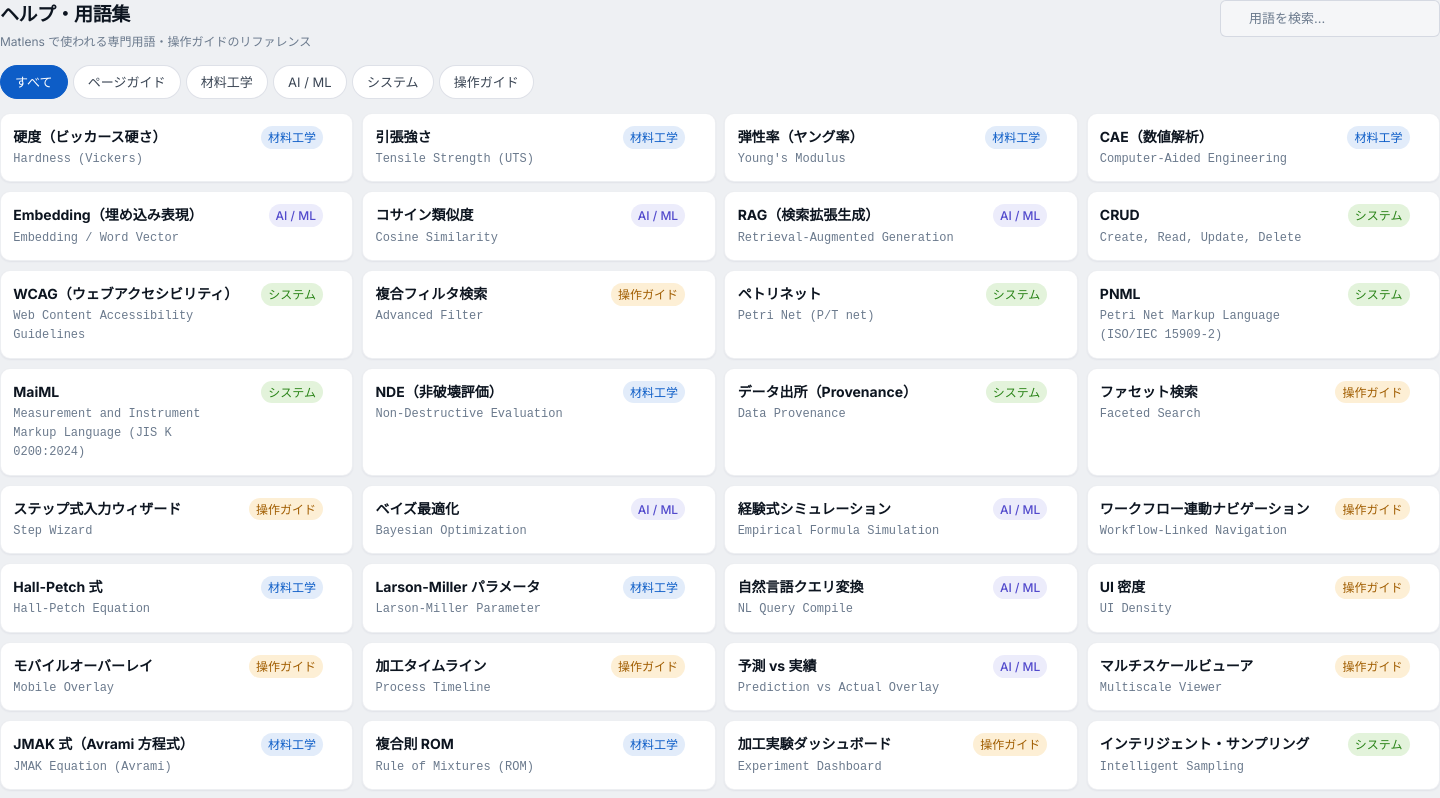
HelpPage › opened card auto-closes when search filters it out (no ghost expand)
Click the tab "ページガイド": (127, 82) 73,65 -> 181,99
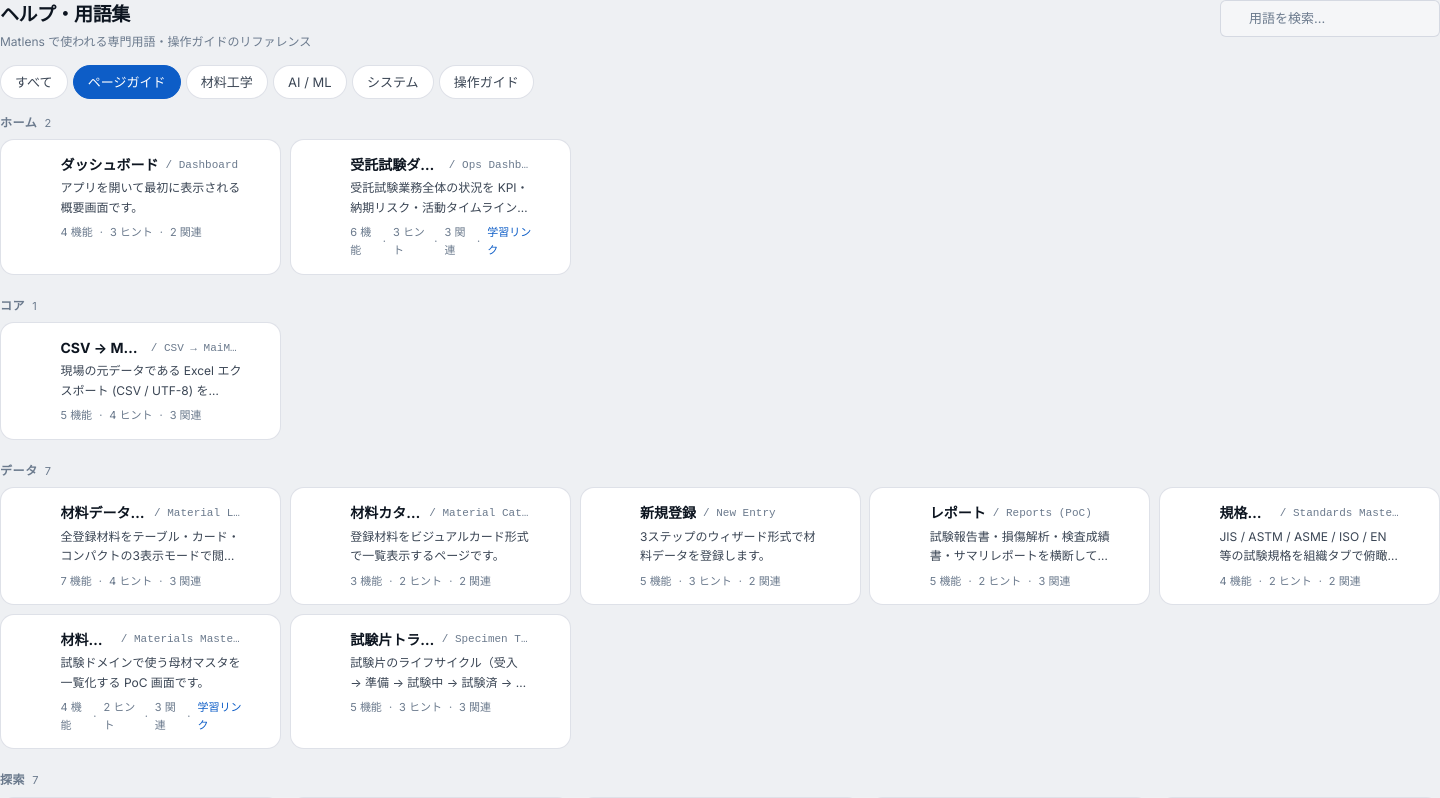
Click the button that starts with "ダッシュボード": (140, 198) 1,140 -> 280,256
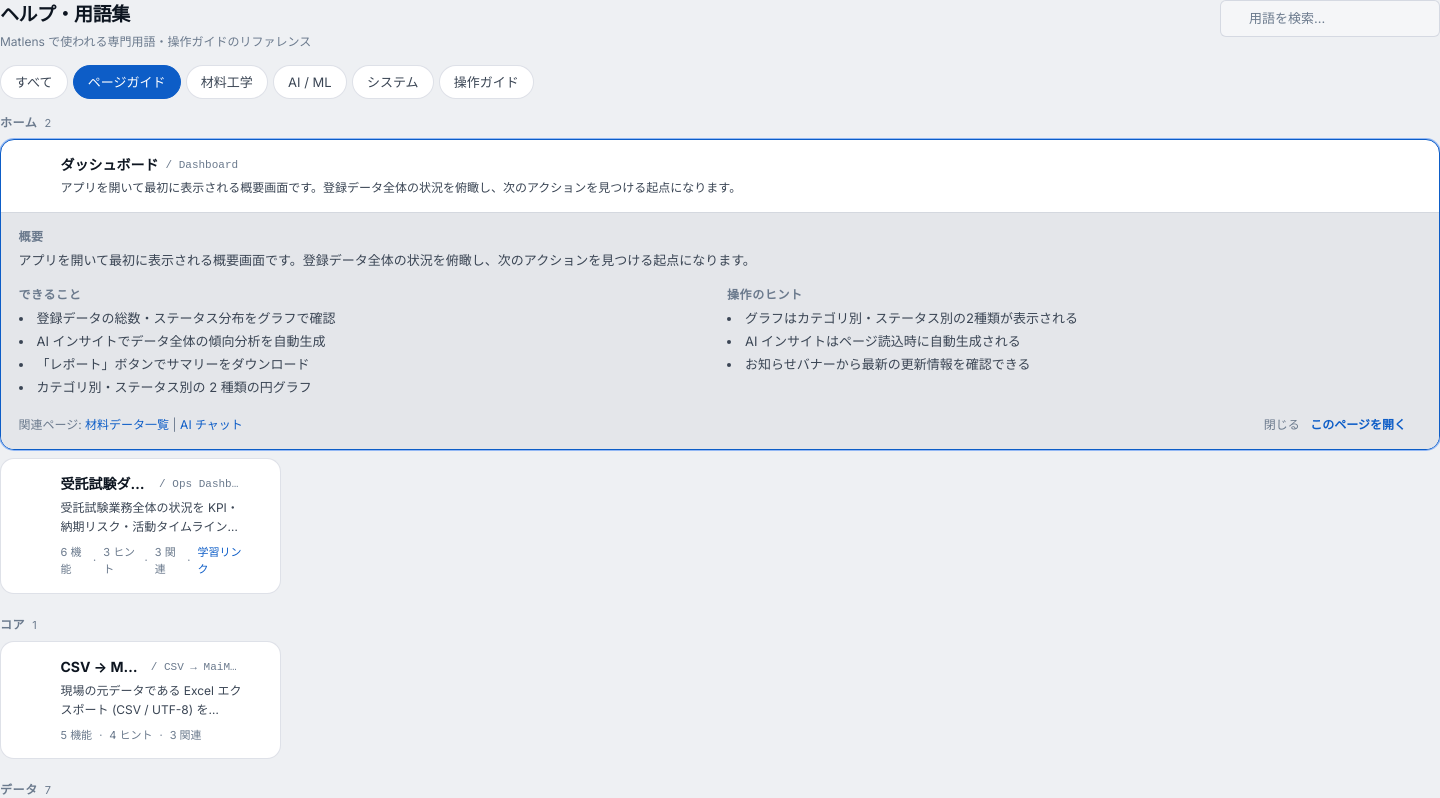
Check: the text "概要" is shown, box 18,229 -> 44,244
Note: ダッシュボードを含まない検索語に切り替え（複数件ヒットさせて自動展開を起こさない）
In the field with placeholder "用語を検索...": (1330, 18) 1220,0 -> 1439,37, type "切削"
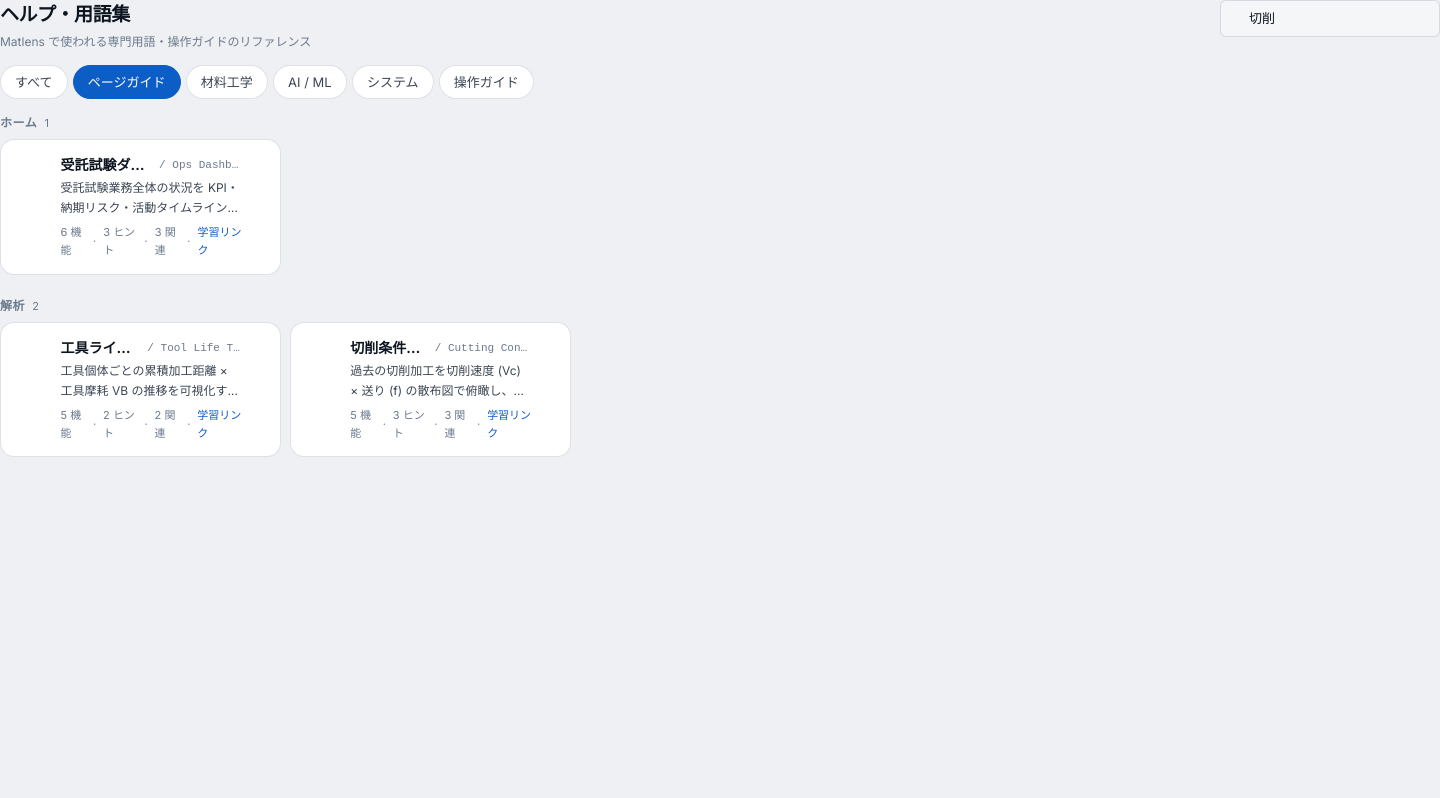
Check: the button "概要" is gone
